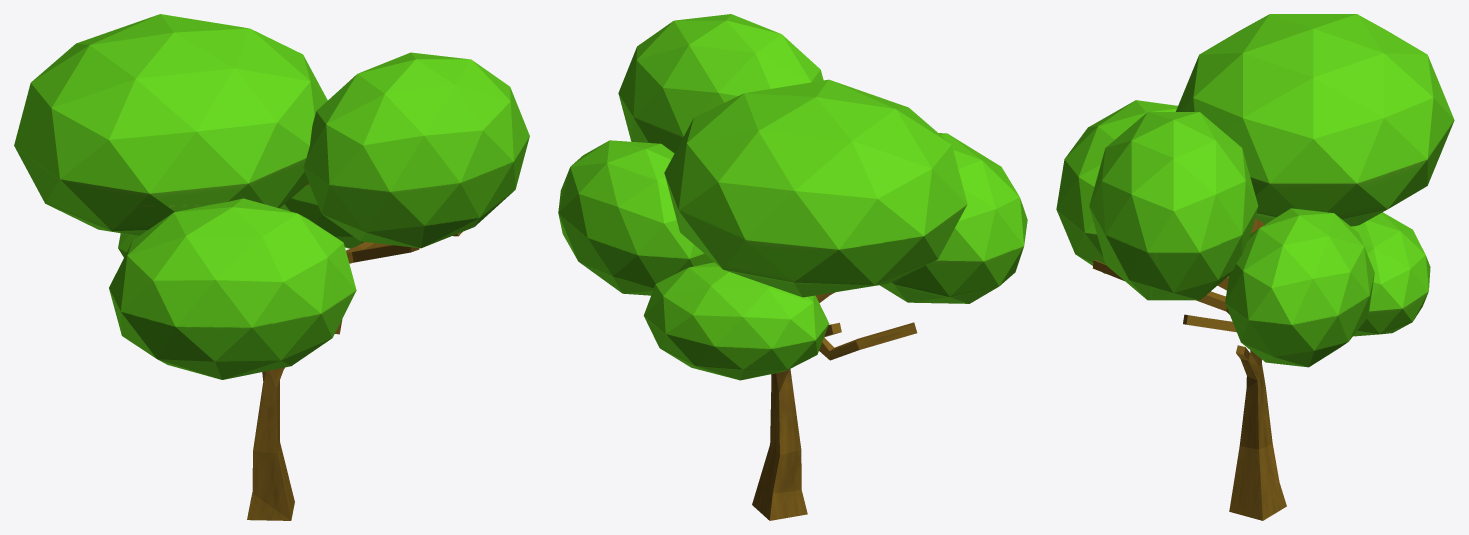
The model's file is tree_3.fbx.
The picture shows the model from 3 angles, left to right: view 1: azimuth 30°, elevation 25°; view 2: azimuth 150°, elevation 25°; view 3: azimuth 270°, elevation 25°; orthographic projection. The views are drawn at different scales.
Visible parts, largest first — view 1: Cube; view 2: Cube; view 3: Cube.
Boxes of the visible parts, box(x1,y1,x2,y2) form: Cube: box(14, 14, 529, 520); Cube: box(558, 14, 1027, 520); Cube: box(1056, 14, 1454, 520).
Bounding box in the file's own units: 1421 × 1540 × 1236.
Materials: 1 (1 with a texture image).
